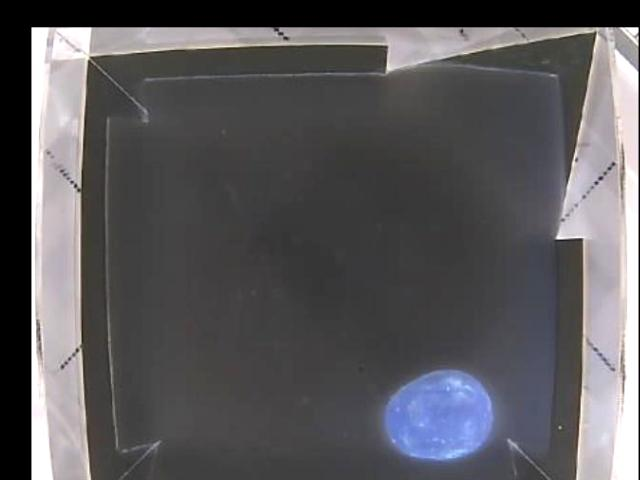Potato: (384, 367, 490, 458)
